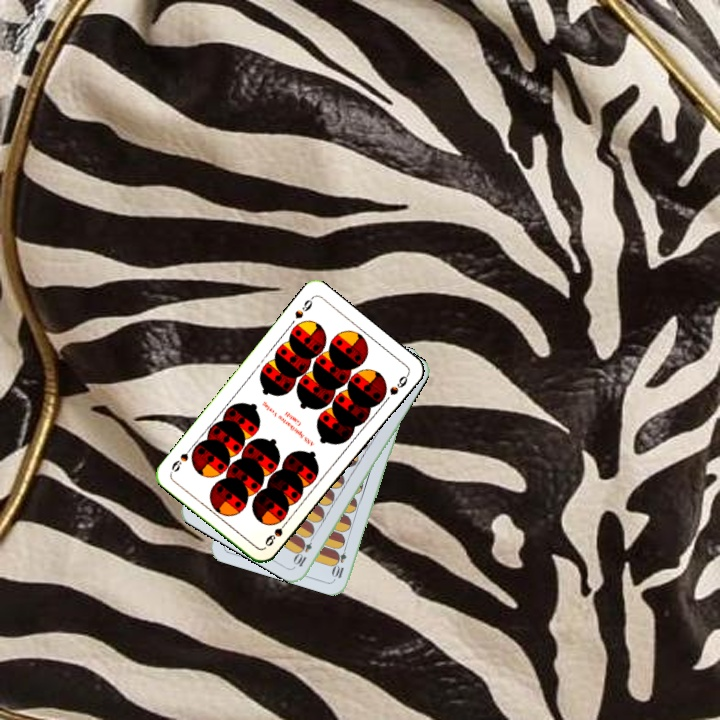E10: (290, 531, 317, 569), (330, 540, 349, 581)
S9: (261, 516, 291, 549), (291, 293, 316, 321)
